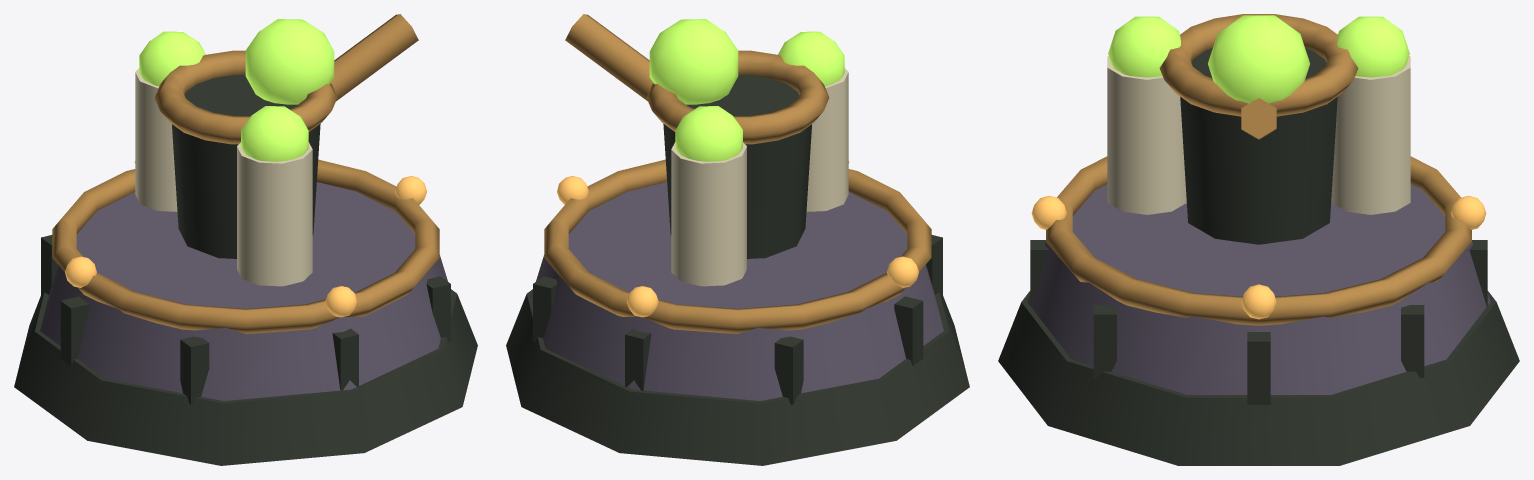
The model's file is tower_poison_poisonGland.glb.
3 views of the same model, side by side, from view 1: azimuth 30°, elevation 25°; view 2: azimuth 150°, elevation 25°; view 3: azimuth 270°, elevation 25° (orthographic). The views are drawn at different scales.
Parts seen in each view (by area): view 1: stone_1, foot_0, rim_2, vessel_15, flask_20, gland_19, vessel_lip_17, flask_22, needle_18, poison_reservoir_21, poison_reservoir_23, mortar_6 (+7 smaller); view 2: stone_1, foot_0, rim_2, vessel_15, flask_22, gland_19, vessel_lip_17, flask_20, needle_18, poison_reservoir_23, poison_reservoir_21, mortar_8 (+7 smaller); view 3: stone_1, foot_0, vessel_15, rim_2, flask_20, flask_22, vessel_lip_17, gland_19, poison_reservoir_21, poison_reservoir_23, mortar_3, mortar_4 (+7 smaller).
Boxes of the visible parts, x1,y1,x2,y2 form: stone_1: (40, 182, 451, 400); foot_0: (14, 289, 477, 465); rim_2: (52, 159, 439, 333); vessel_15: (172, 75, 320, 258); flask_20: (237, 142, 312, 286); gland_19: (245, 19, 334, 104); vessel_lip_17: (154, 50, 337, 144); flask_22: (135, 68, 177, 211); needle_18: (330, 14, 418, 101); poison_reservoir_21: (241, 106, 308, 161); poison_reservoir_23: (139, 31, 205, 86); mortar_6: (180, 336, 209, 404); stone_1: (532, 182, 943, 400); foot_0: (506, 289, 969, 465); rim_2: (544, 159, 931, 333); vessel_15: (663, 75, 811, 258); flask_22: (671, 142, 746, 286); gland_19: (649, 19, 738, 104); vessel_lip_17: (646, 50, 829, 144); flask_20: (806, 68, 848, 211); needle_18: (565, 14, 653, 101); poison_reservoir_23: (675, 106, 742, 161); poison_reservoir_21: (778, 31, 844, 86); mortar_8: (774, 336, 803, 404); stone_1: (1027, 184, 1490, 394); foot_0: (998, 291, 1519, 465); vessel_15: (1180, 48, 1337, 244); rim_2: (1046, 156, 1471, 325); flask_20: (1107, 56, 1186, 214); flask_22: (1331, 56, 1410, 214); vessel_lip_17: (1159, 14, 1358, 116); gland_19: (1208, 15, 1309, 103); poison_reservoir_21: (1108, 16, 1180, 77); poison_reservoir_23: (1337, 16, 1409, 77); mortar_3: (1247, 332, 1270, 404); mortar_4: (1093, 305, 1116, 377).
Bounding box in the file's own units: 0.5326 × 0.435 × 0.56.
